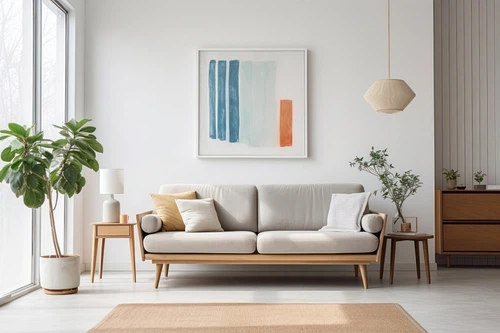large plant: (0, 116, 103, 297)
side table: (90, 221, 138, 285), (378, 233, 434, 286)
small plant: (349, 144, 424, 233), (441, 167, 461, 189), (470, 168, 489, 191)
sofa: (134, 182, 388, 290)
table lamp: (98, 165, 124, 223)
wall art: (194, 47, 309, 160)
